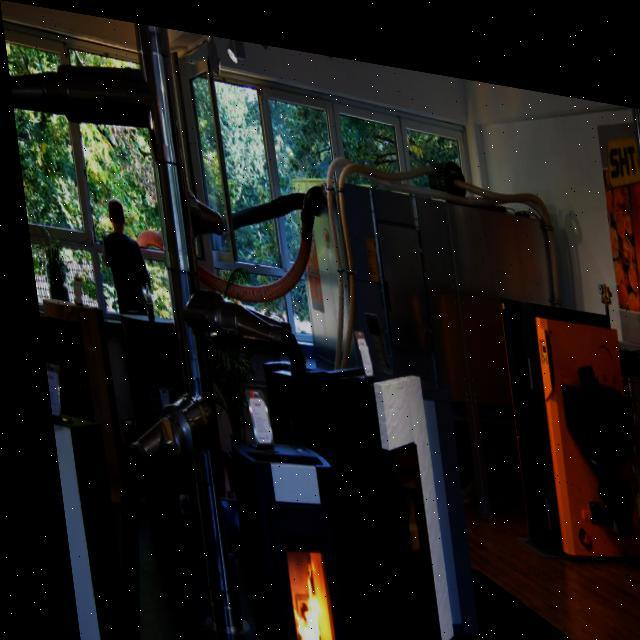Fire: (267, 537, 320, 639)
